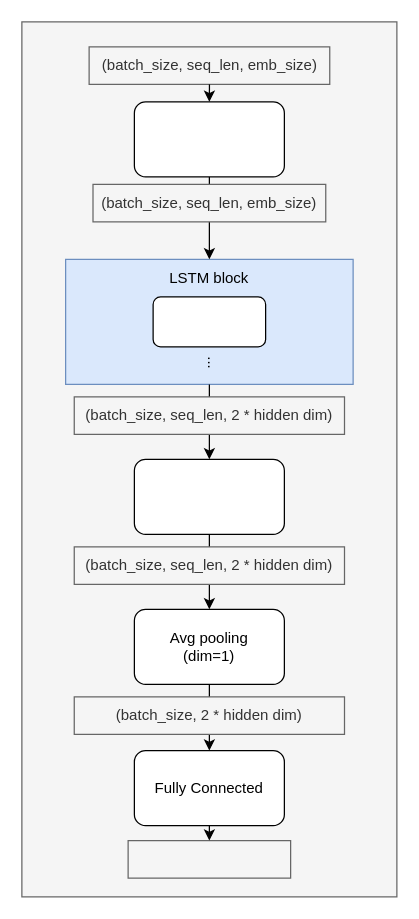
Image size: 419x919. Some labels were removed from this diagram. Each missing label, with the centre of its shape:
"(batch_size, 2)" belongs at (209,858).
"Bidirectional LSTM layer" belongs at (209,321).
"Dropout" belongs at (208,496).
"Embedding layer" belongs at (208,139).
